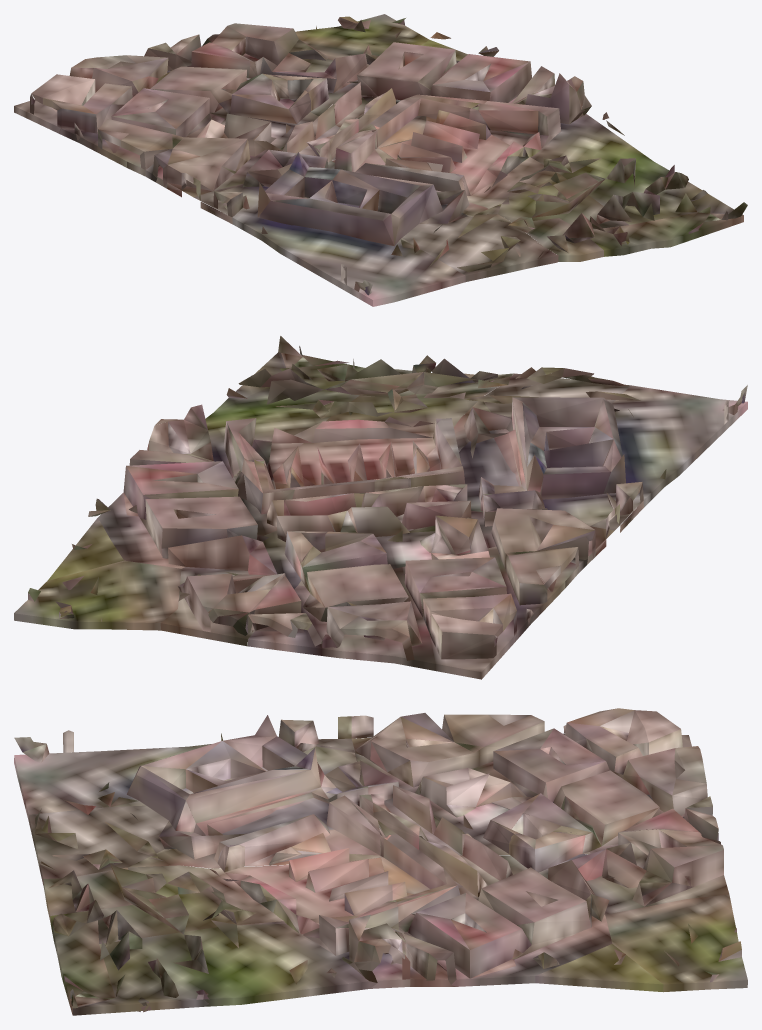
The picture shows the model from 3 angles, top to bottom: view 1: azimuth 30°, elevation 25°; view 2: azimuth 150°, elevation 25°; view 3: azimuth 270°, elevation 25°; orthographic projection. The views are drawn at different scales.
Parts seen in each view (by area): view 1: Mesh_0; view 2: Mesh_0; view 3: Mesh_0.
Boxes of the visible parts, left/top/right/bottom form: Mesh_0: left=14, top=14, right=747, bottom=306; Mesh_0: left=14, top=336, right=747, bottom=679; Mesh_0: left=14, top=708, right=747, bottom=1015.
Size of the model in its own units: 537 by 86.7 by 659.
2 materials, 2 textured.
